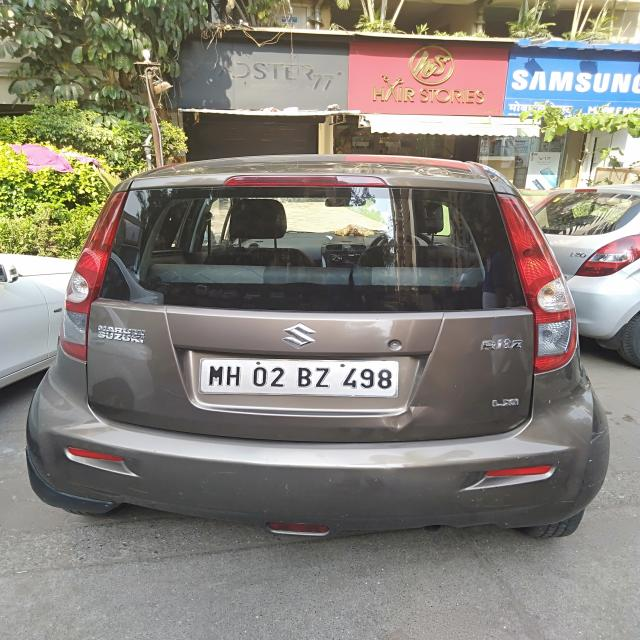Number-Plate: (201, 359, 400, 395)
